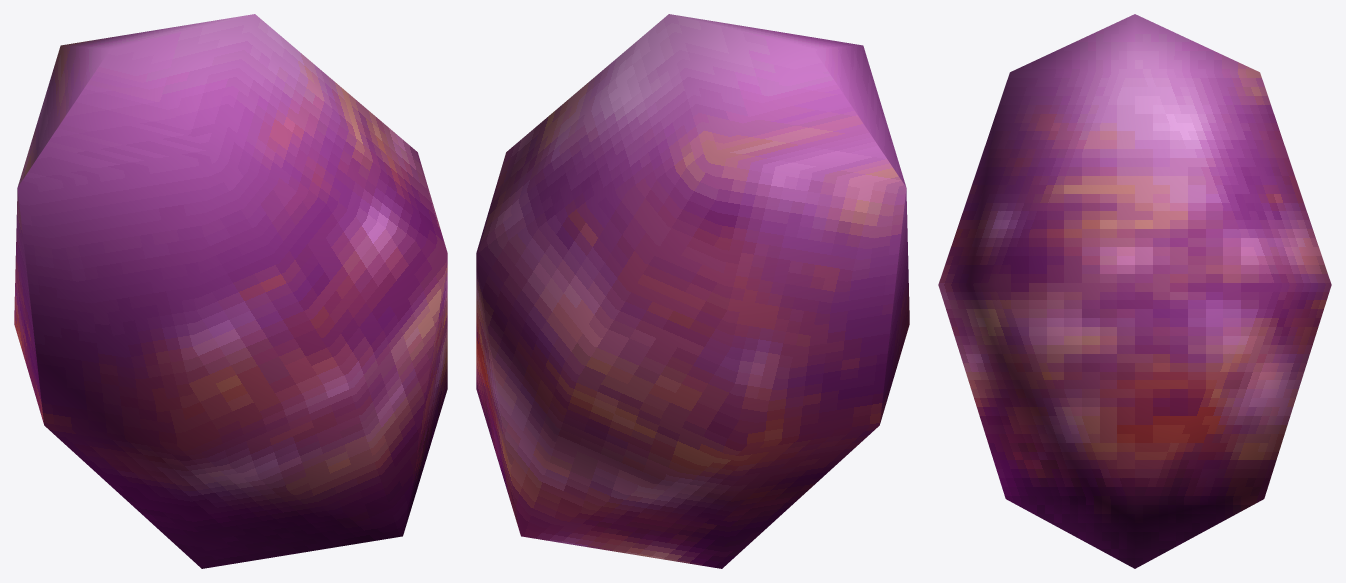
File: PurpleBean.fbx
3 views of the same model, side by side, from view 1: azimuth 30°, elevation 25°; view 2: azimuth 150°, elevation 25°; view 3: azimuth 270°, elevation 25° (orthographic). The views are drawn at different scales.
Visible parts, largest first — view 1: material_0; view 2: material_0; view 3: material_0.
Boxes of the visible parts, x1,y1,x2,y2 form: material_0: (14, 14, 447, 568); material_0: (476, 14, 909, 568); material_0: (938, 14, 1331, 568).
Bounding box in the file's own units: 979 × 1200 × 938.
